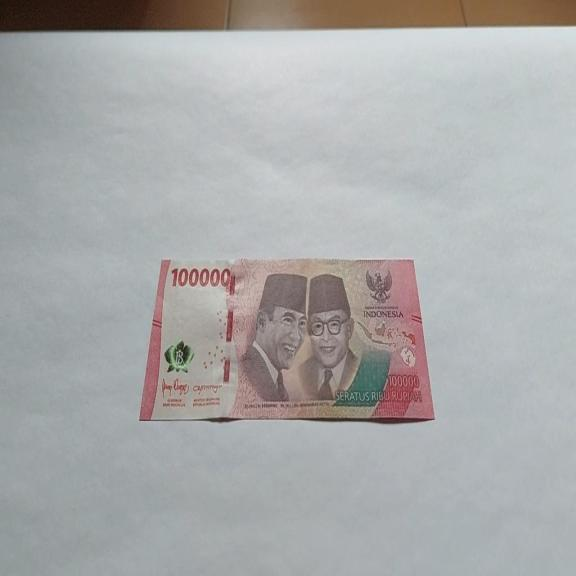Kertas: (139, 255, 435, 424), (170, 264, 231, 290)
